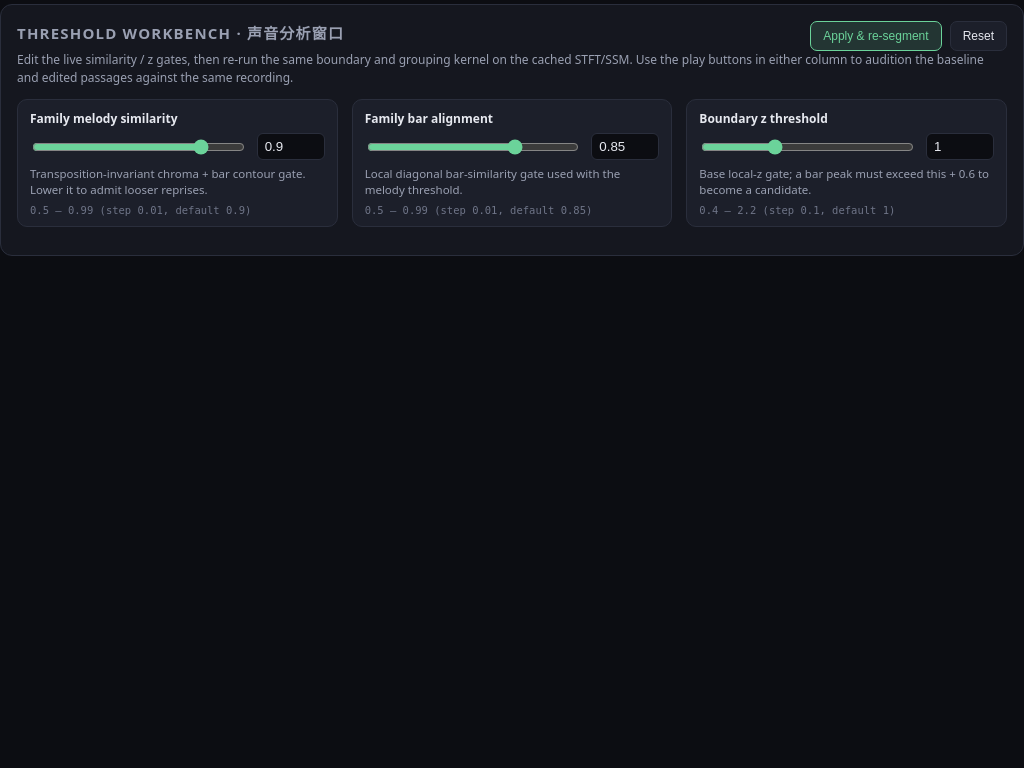
Test: threshold workbench (kernel-driven UI) › re-segments with default thresholds and shows a no-op diff
What coordinates should you click on to do the following:
click the button with test id "apply-resegment"
I would click on:
 (876, 36)
Its box is 810,21 -> 942,51.
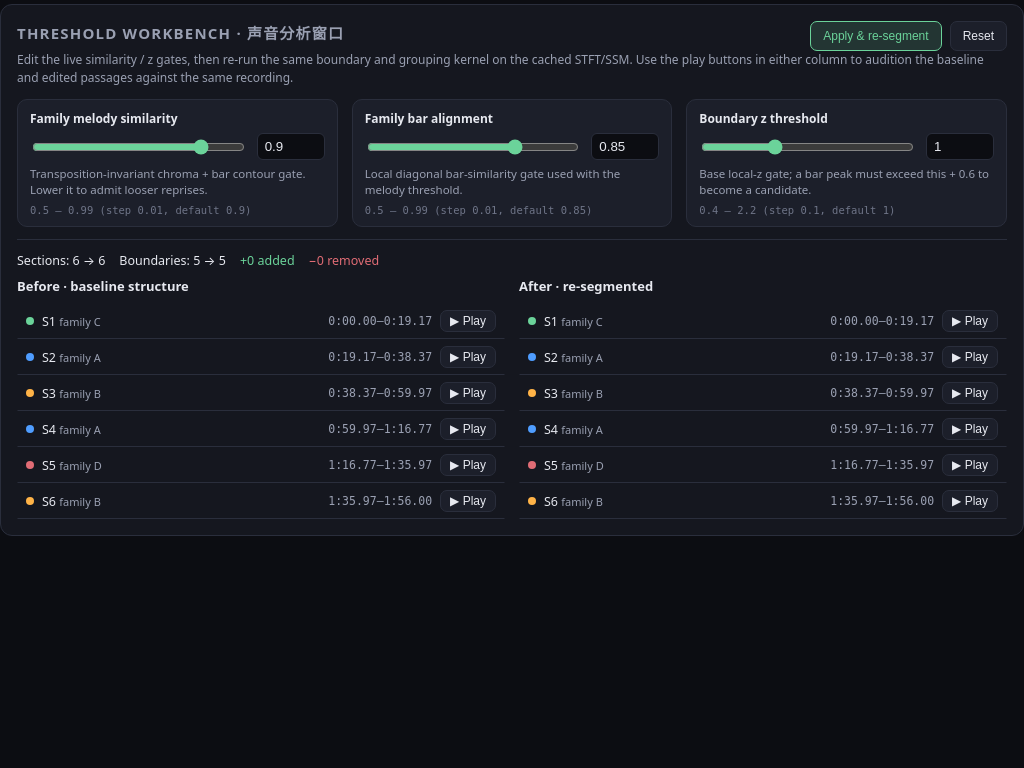
Expected: the element with test id "structure-diff" is shown, 17,239 -> 1007,519
Expected: the text with test id "diff-section-counts" shows "6 → 6", 17,252 -> 105,269
